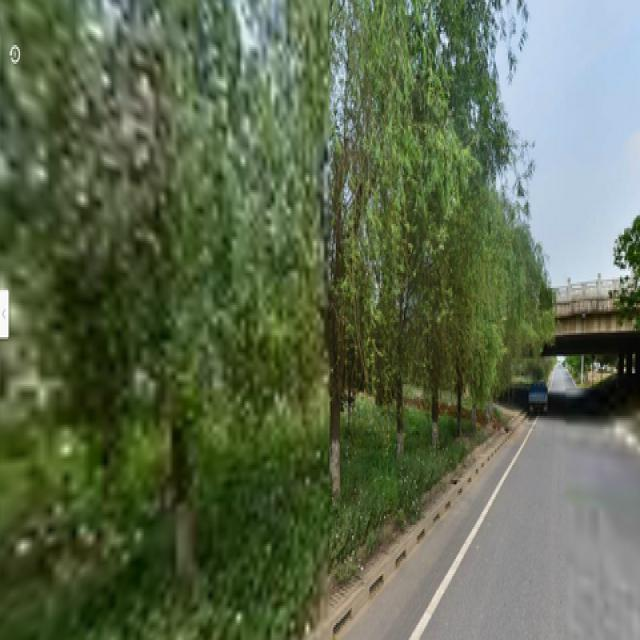albi: (332, 23, 424, 495)
